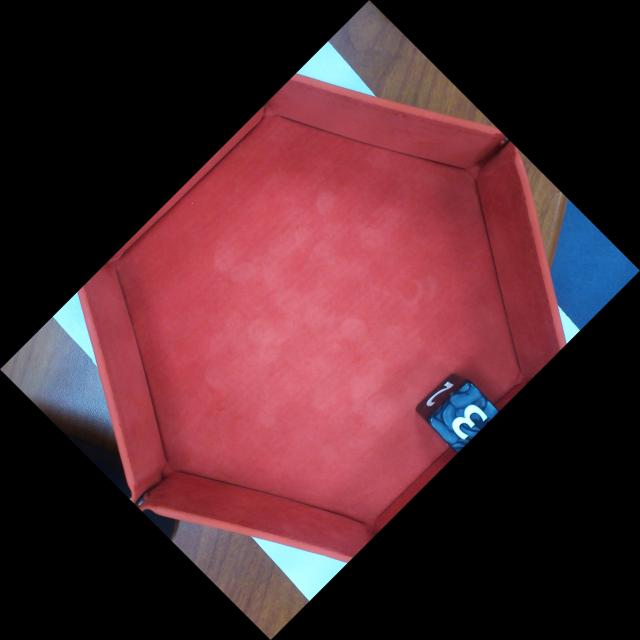dice: (423, 378, 501, 455)
